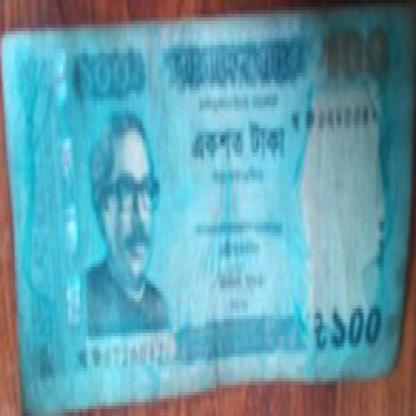one hundred taka: (72, 48, 146, 108), (318, 24, 393, 83), (330, 302, 382, 357)
